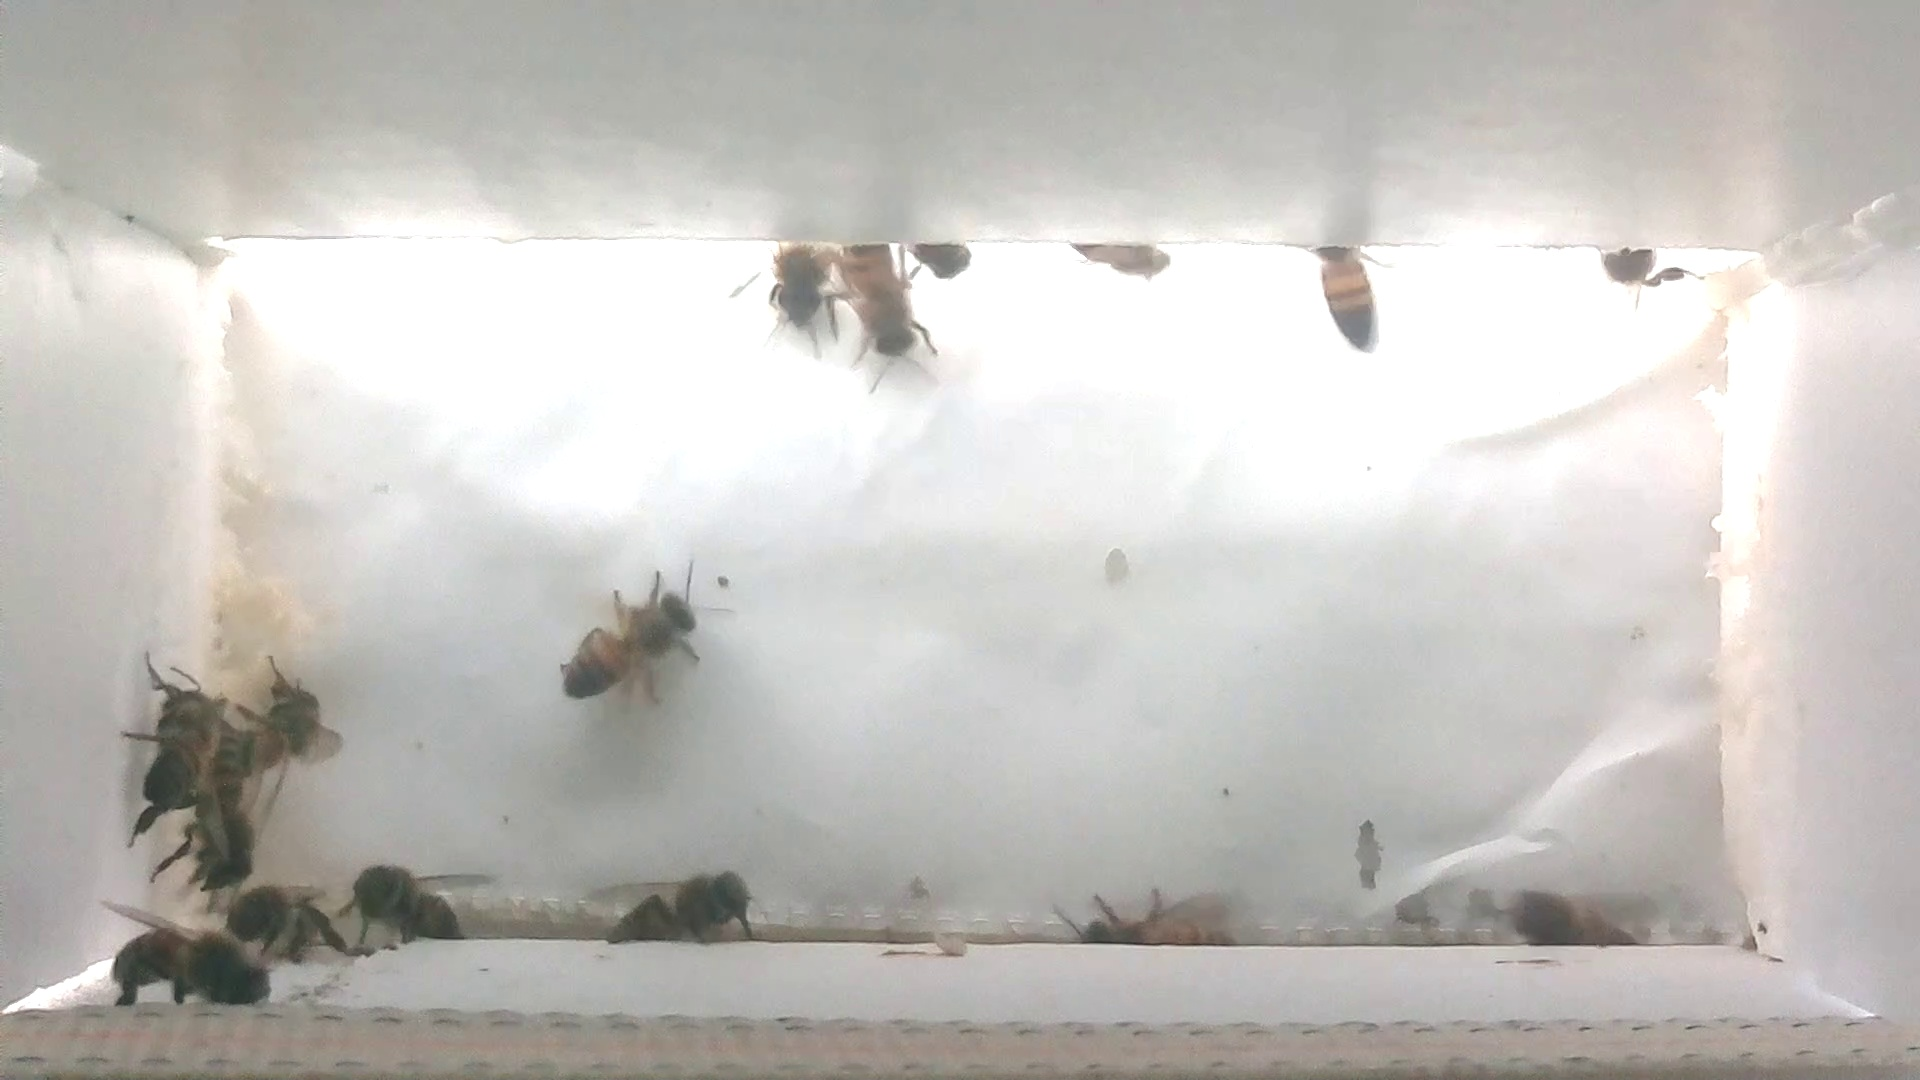bee: (545, 549, 740, 720), (91, 887, 273, 1019), (574, 844, 761, 953), (111, 645, 220, 825), (822, 225, 930, 382), (342, 855, 498, 960), (735, 214, 849, 342), (1296, 231, 1400, 368), (1490, 872, 1644, 961), (235, 650, 349, 770), (1065, 884, 1247, 957), (222, 876, 340, 967), (1063, 229, 1184, 289), (1590, 229, 1679, 301), (909, 228, 980, 298)
